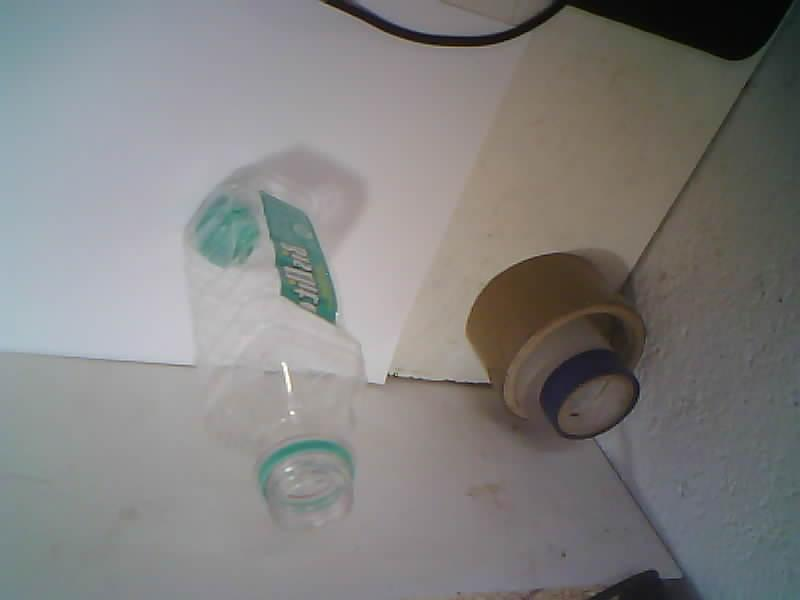non-biodegradable: (184, 173, 366, 529)
